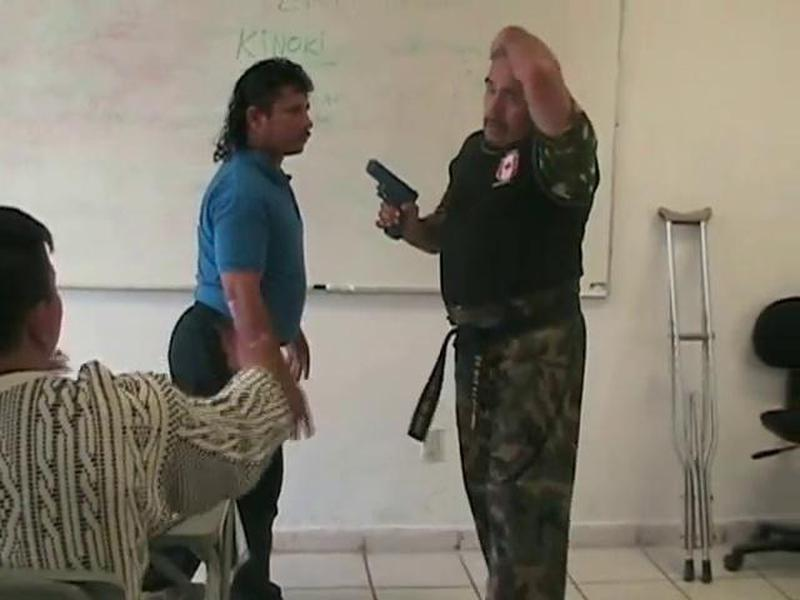Pistola: (362, 154, 416, 249)
